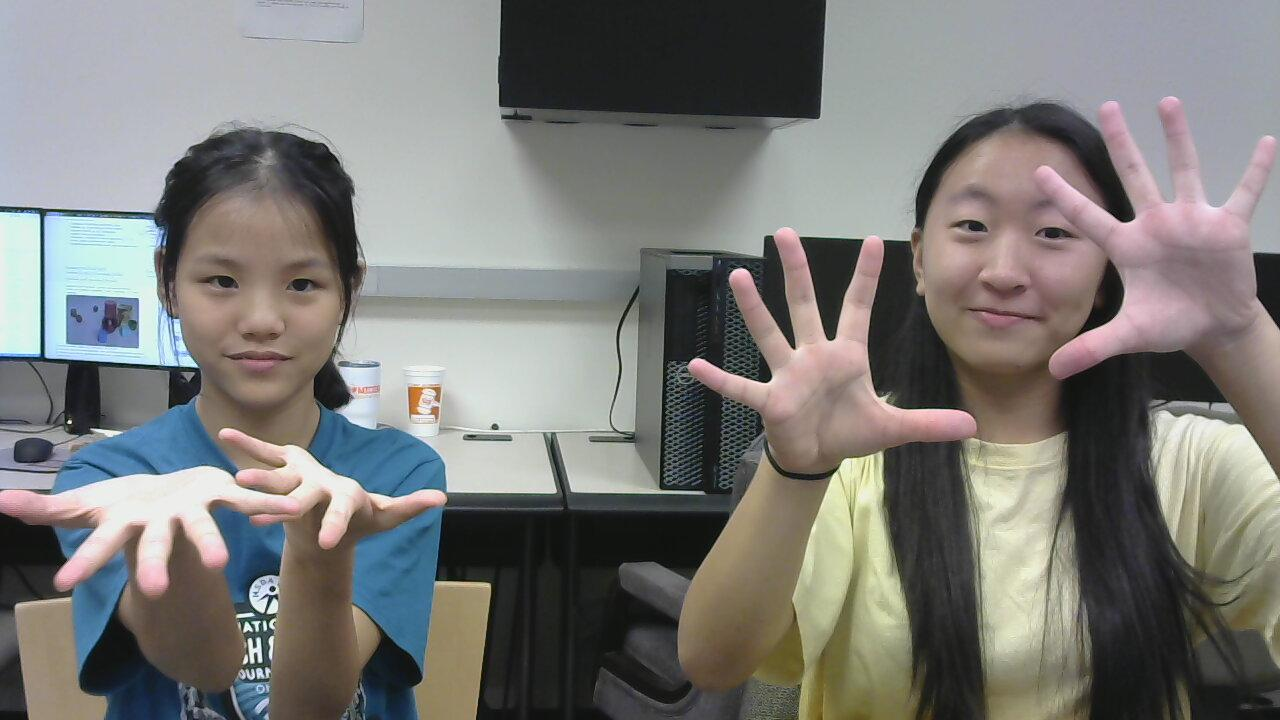hands: (681, 222, 997, 476), (1025, 94, 1280, 386), (211, 399, 467, 576), (0, 454, 286, 604)
